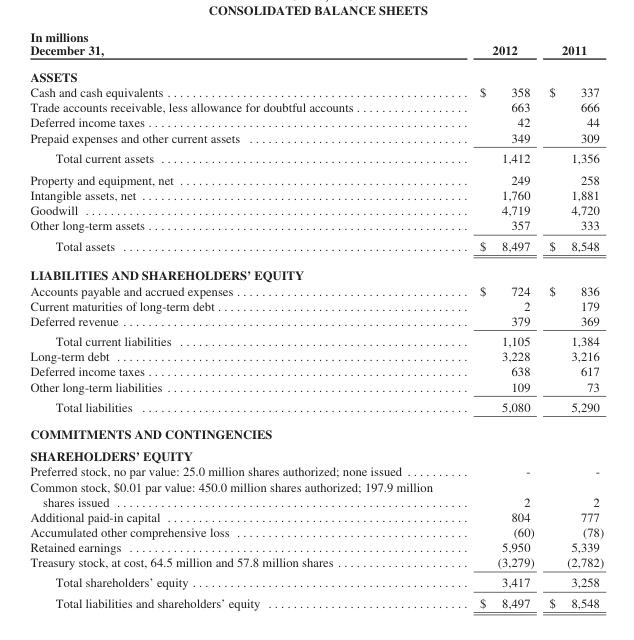table: (29, 29, 603, 609)
table column: (29, 29, 455, 609), (455, 29, 541, 609), (541, 29, 603, 609)
table column header: (29, 29, 603, 62)
table projected row header: (29, 419, 603, 444), (29, 62, 603, 84), (29, 260, 603, 282), (29, 444, 603, 463)
table row: (29, 29, 603, 62), (29, 478, 603, 508), (29, 235, 603, 260), (29, 419, 603, 444), (29, 396, 603, 419), (29, 62, 603, 84), (29, 260, 603, 282), (29, 147, 603, 168), (29, 572, 603, 592), (29, 168, 603, 187), (29, 444, 603, 463), (29, 129, 603, 147), (29, 217, 603, 235), (29, 312, 603, 330), (29, 330, 603, 348), (29, 378, 603, 396), (29, 554, 603, 572), (29, 592, 603, 609), (29, 508, 603, 524), (29, 84, 603, 99), (29, 99, 603, 114), (29, 114, 603, 129), (29, 187, 603, 202), (29, 202, 603, 217), (29, 282, 603, 297), (29, 297, 603, 312), (29, 348, 603, 363), (29, 363, 603, 378), (29, 463, 603, 478), (29, 524, 603, 539), (29, 539, 603, 554)
